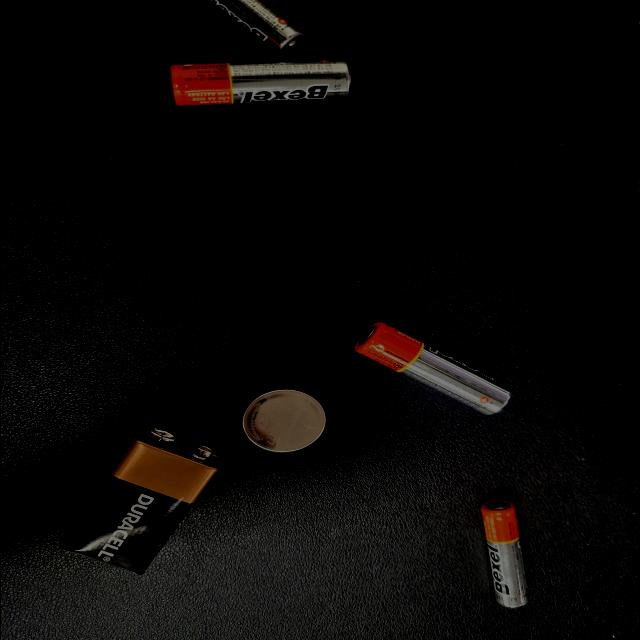9V: (362, 317, 552, 435)
AA: (218, 100, 338, 214)
AAA: (452, 81, 598, 121)
COIN: (304, 235, 391, 301)
